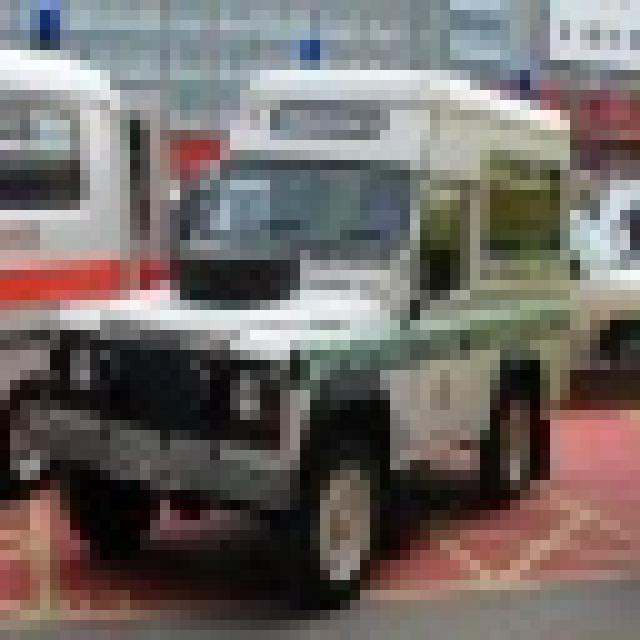Ambulance: (0, 60, 580, 600)
